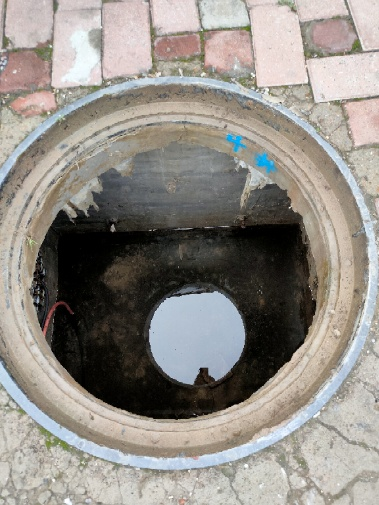lose: (3, 75, 377, 470)
